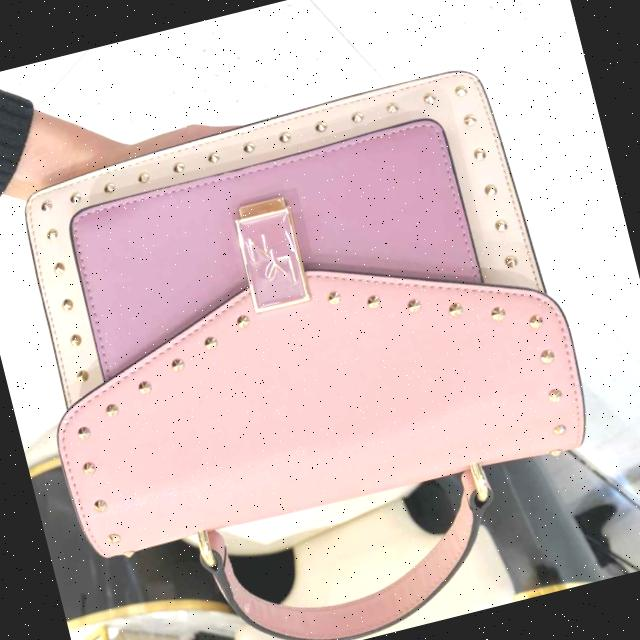Handbag: (0, 3, 624, 581)
